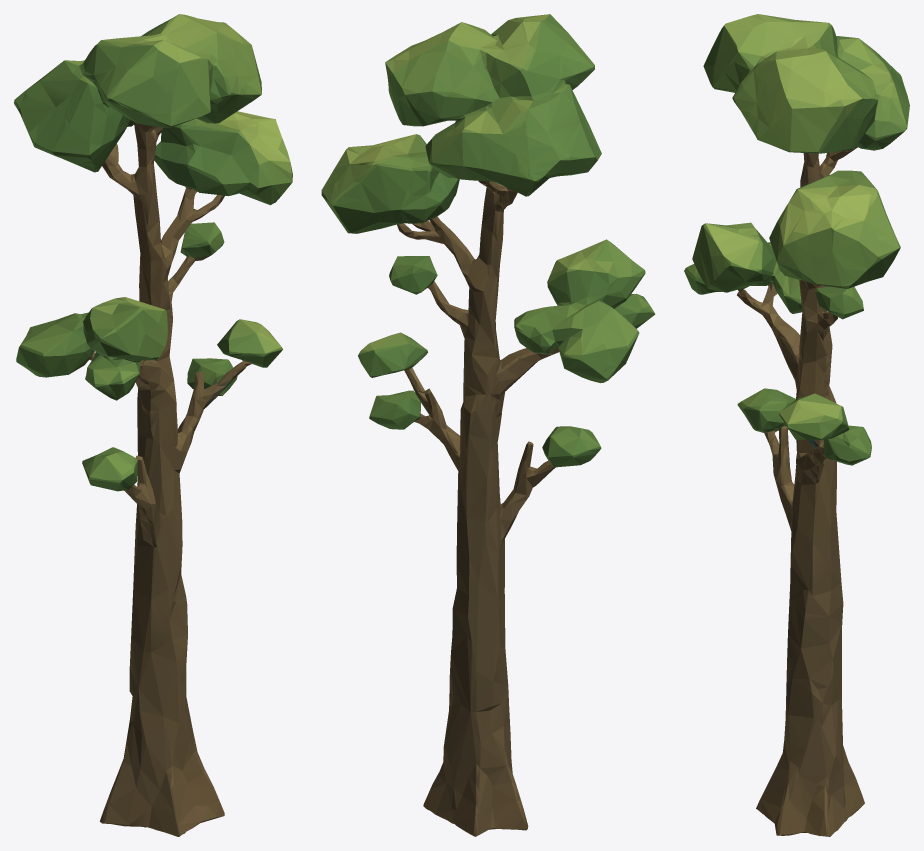
Rendered from tree2_lod.glb.
The picture shows the model from 3 angles, left to right: view 1: azimuth 30°, elevation 25°; view 2: azimuth 150°, elevation 25°; view 3: azimuth 270°, elevation 25°; orthographic projection. The views are drawn at different scales.
Parts seen in each view (by area): view 1: tree2_lod; view 2: tree2_lod; view 3: tree2_lod.
Boxes of the visible parts, x1,y1,x2,y2 form: tree2_lod: (14,14,292,836); tree2_lod: (321,14,655,836); tree2_lod: (684,14,909,836).
Bounding box in the file's own units: 0.3726 × 1 × 0.2611.
Materials: 1 (1 with a texture image).
